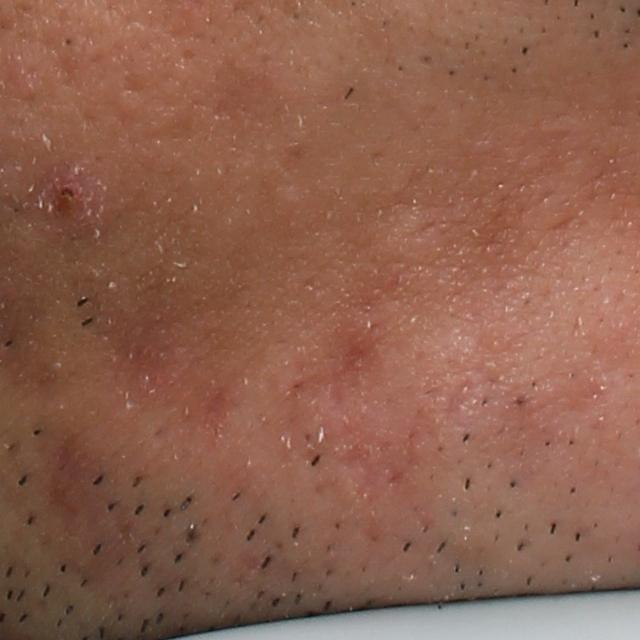comedo: (60, 33, 77, 53)
hypertrophic_scar: (370, 208, 450, 277)
papule: (37, 156, 95, 223)
